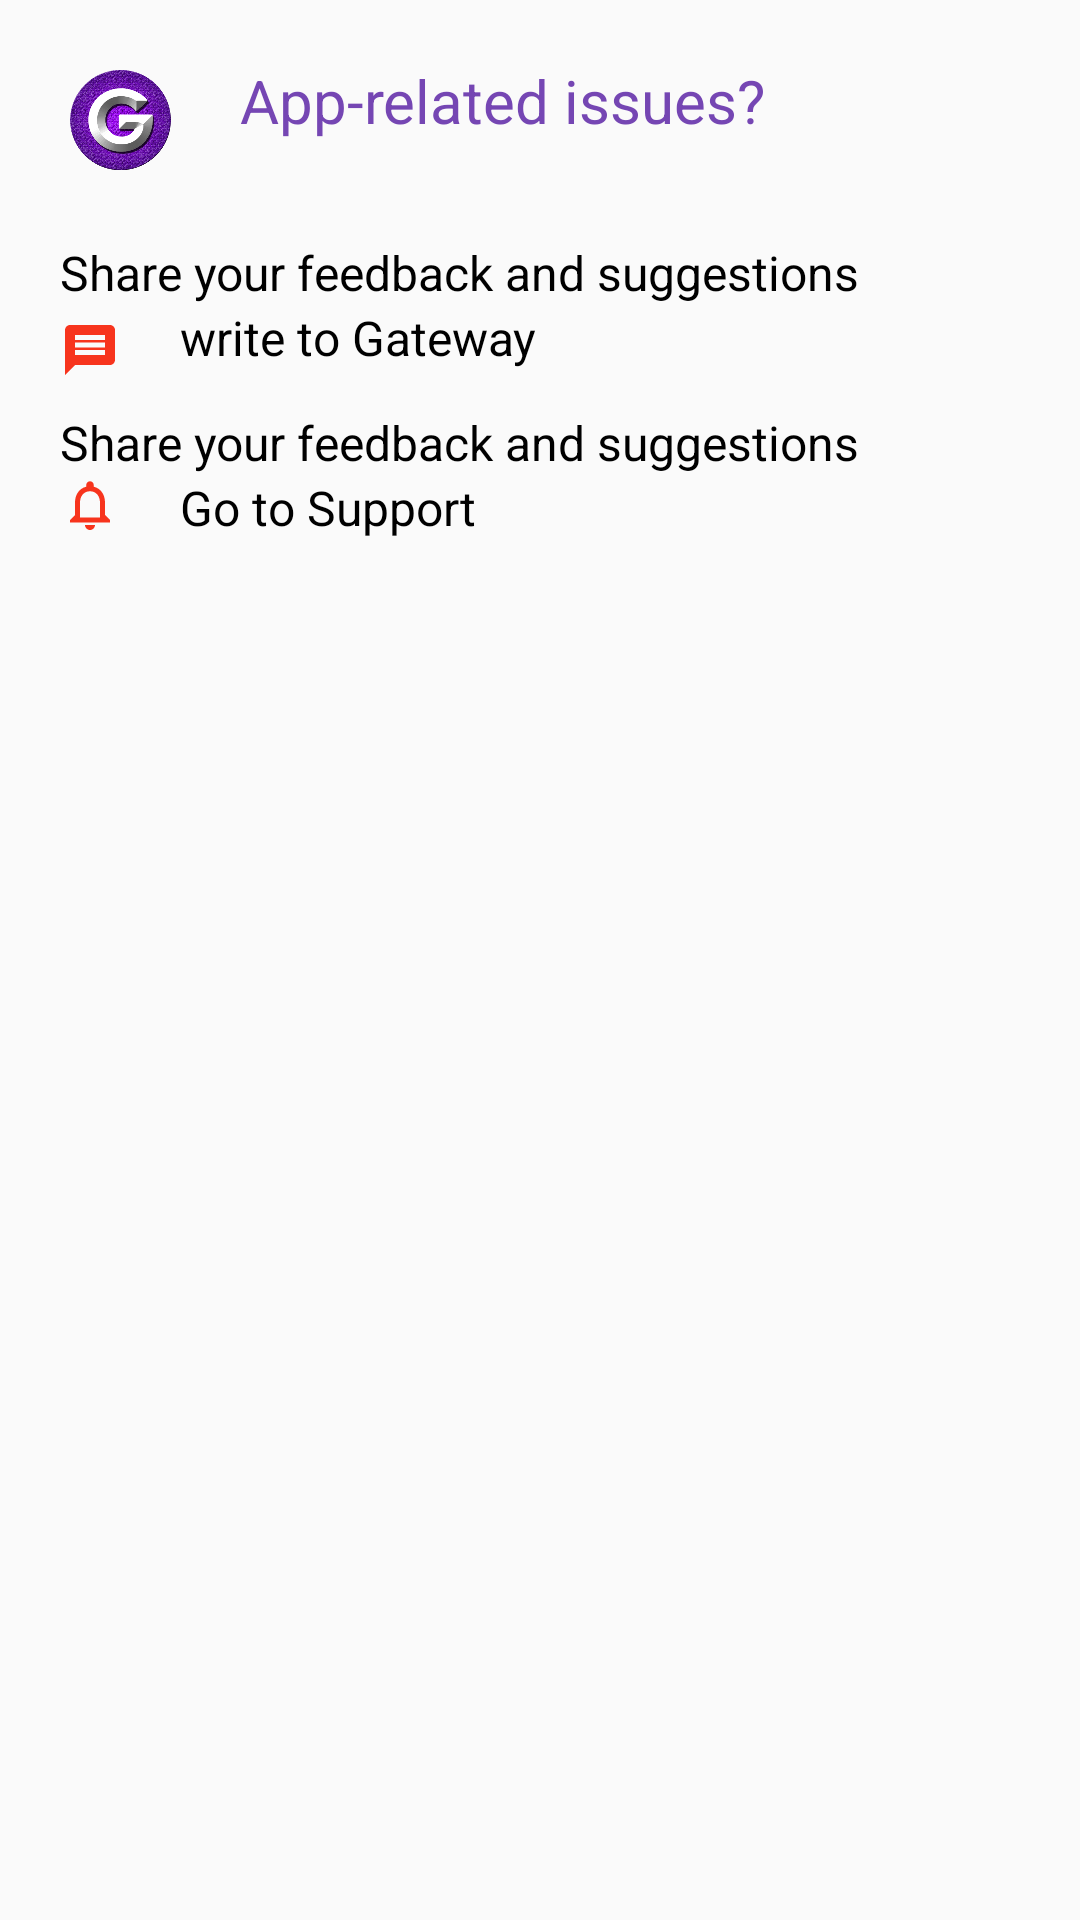

Icon click points for this 1080*1920 phone screenshot, format [x,y]:
messag: [90,350]
notifications none: [90,505]
